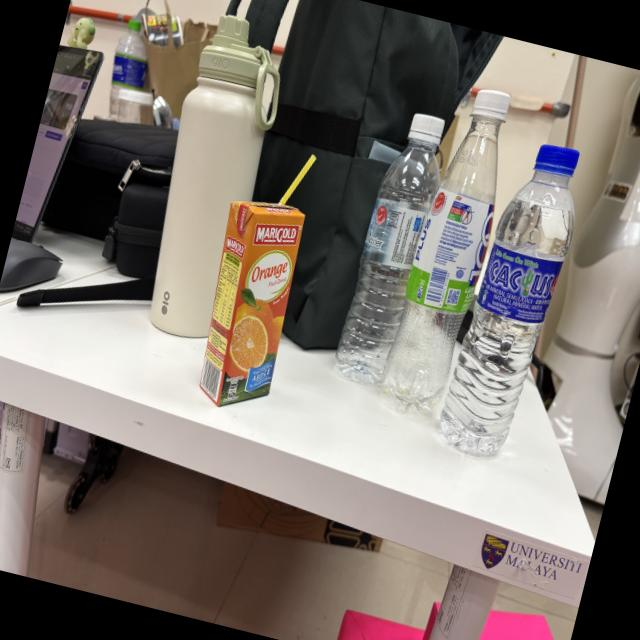drink_carton: (173, 127, 340, 426)
plastic_bottle: (426, 124, 596, 476), (368, 70, 524, 435), (322, 100, 462, 400)
